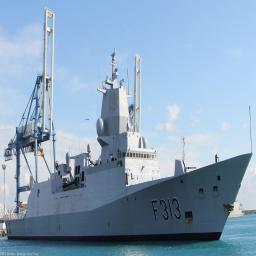Fragata: (1, 45, 178, 249)
